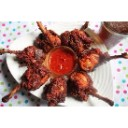chicken_lollipop: (1, 65, 48, 109), (68, 71, 119, 106), (80, 46, 128, 70), (1, 41, 47, 66), (25, 19, 63, 47), (60, 21, 94, 51), (42, 77, 69, 107)
